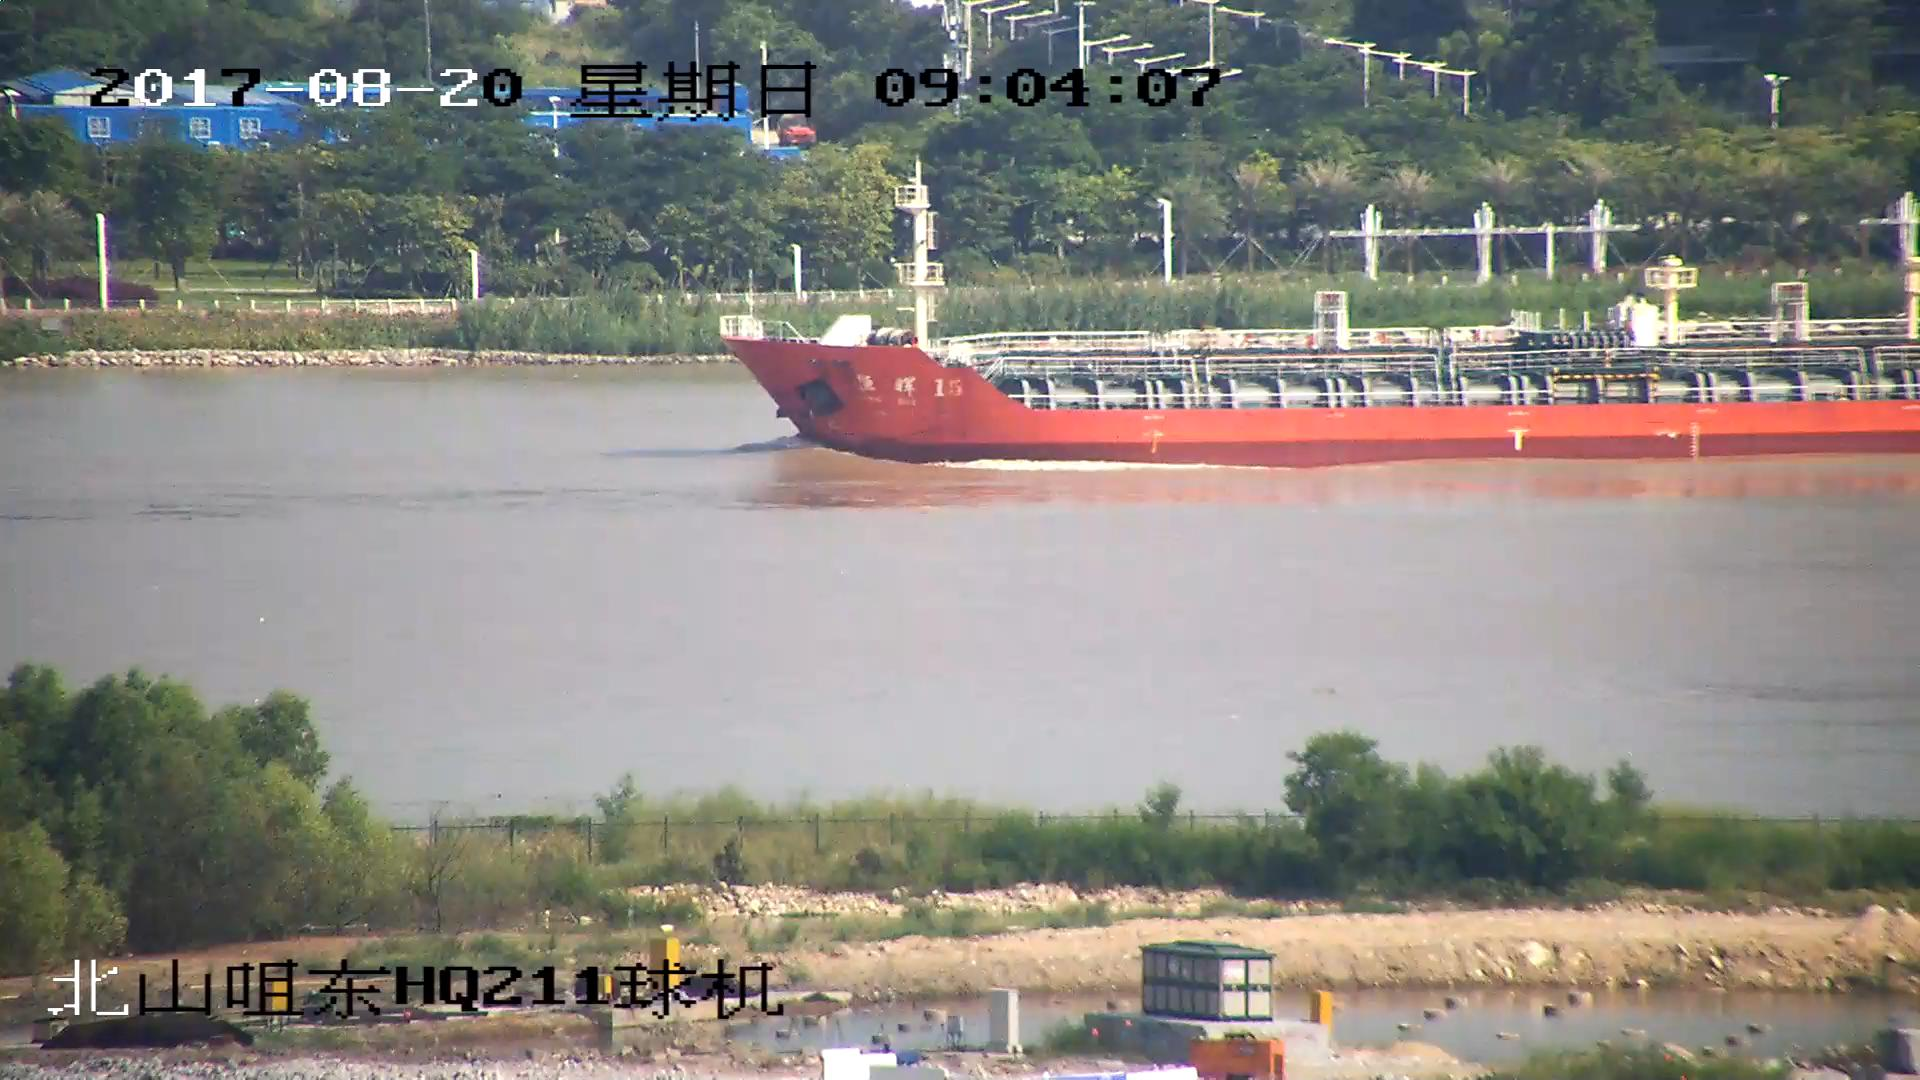general cargo ship: (729, 178, 1920, 466)
